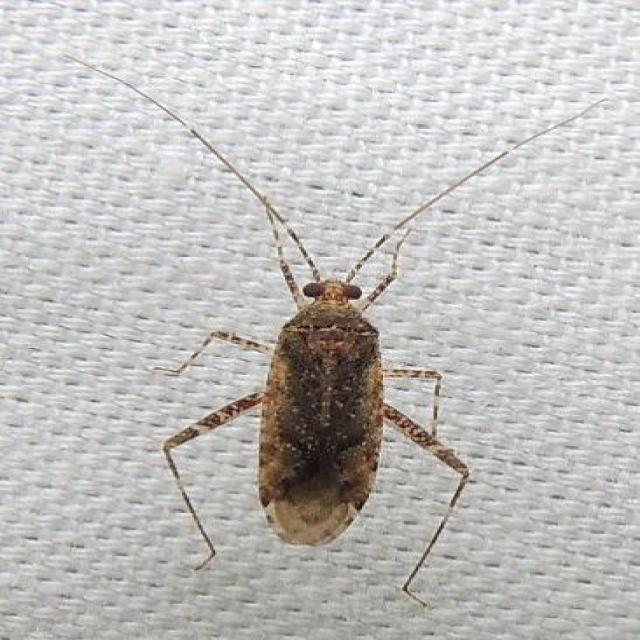Miridae-Adult-: (52, 37, 594, 607)
